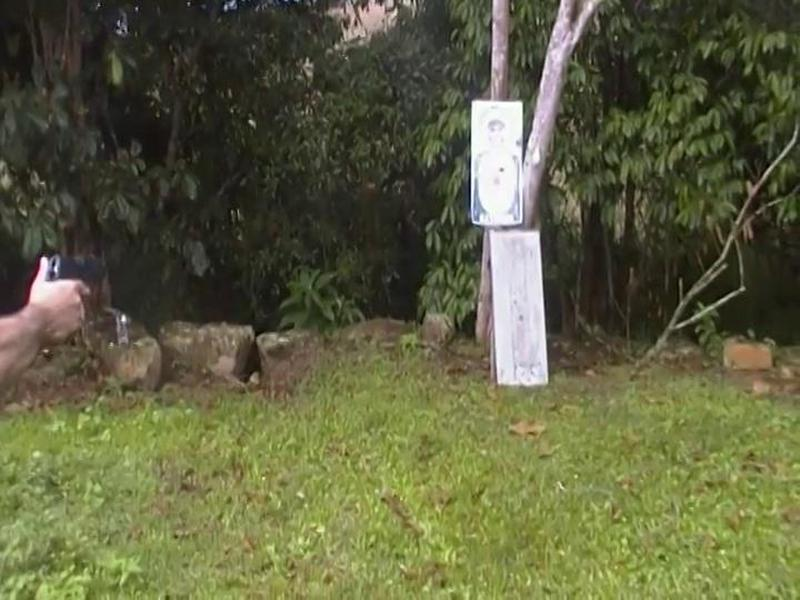Pistola: (32, 225, 128, 311)
